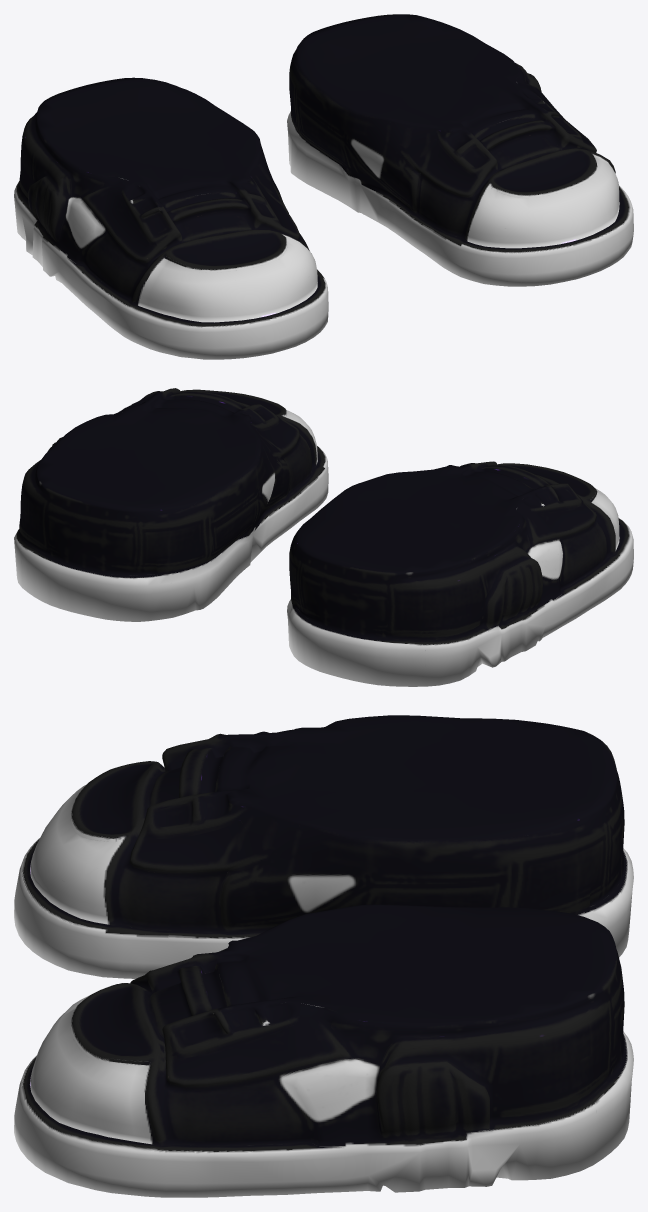
The model's file is Shoes_low.glb.
3 views of the same model, one above another, from view 1: azimuth 30°, elevation 25°; view 2: azimuth 150°, elevation 25°; view 3: azimuth 270°, elevation 25° (orthographic). The views are drawn at different scales.
Visible parts, largest first — view 1: Shoes_low; view 2: Shoes_low; view 3: Shoes_low.
Part boxes in pixels (bbox=[...]): Shoes_low: bbox=[14, 14, 633, 359]; Shoes_low: bbox=[14, 388, 633, 686]; Shoes_low: bbox=[14, 715, 633, 1197].
Bounding box in the file's own units: 0.5209 × 0.1106 × 0.3856.
Materials: 1 (1 with a texture image).
